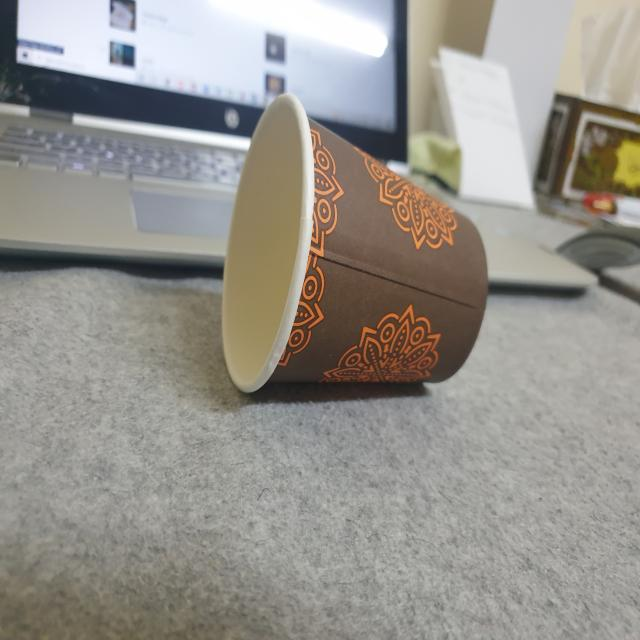cups: (211, 86, 494, 406)
